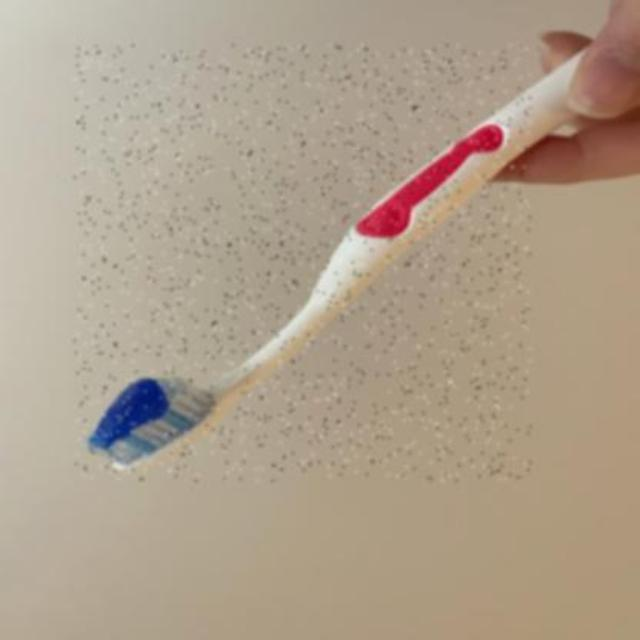toothbrush: (74, 45, 530, 481)
